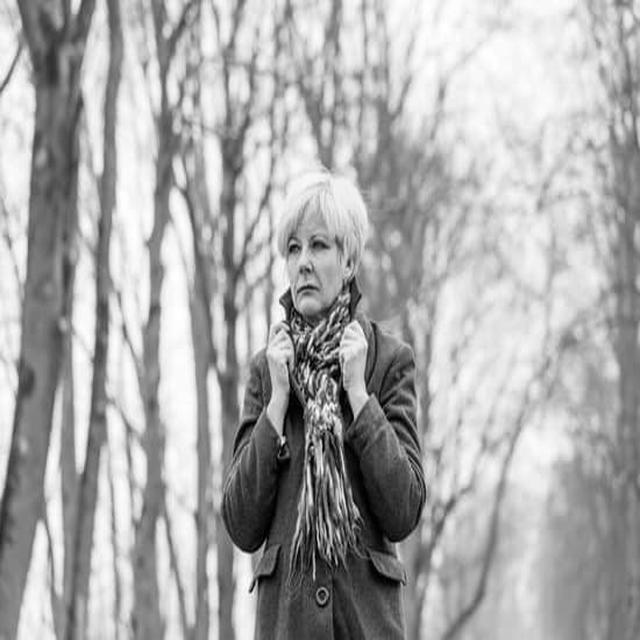Sadness: (286, 208, 342, 315)
